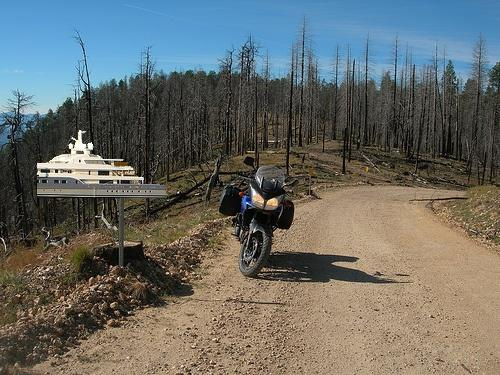tampered: (38, 131, 167, 198)
